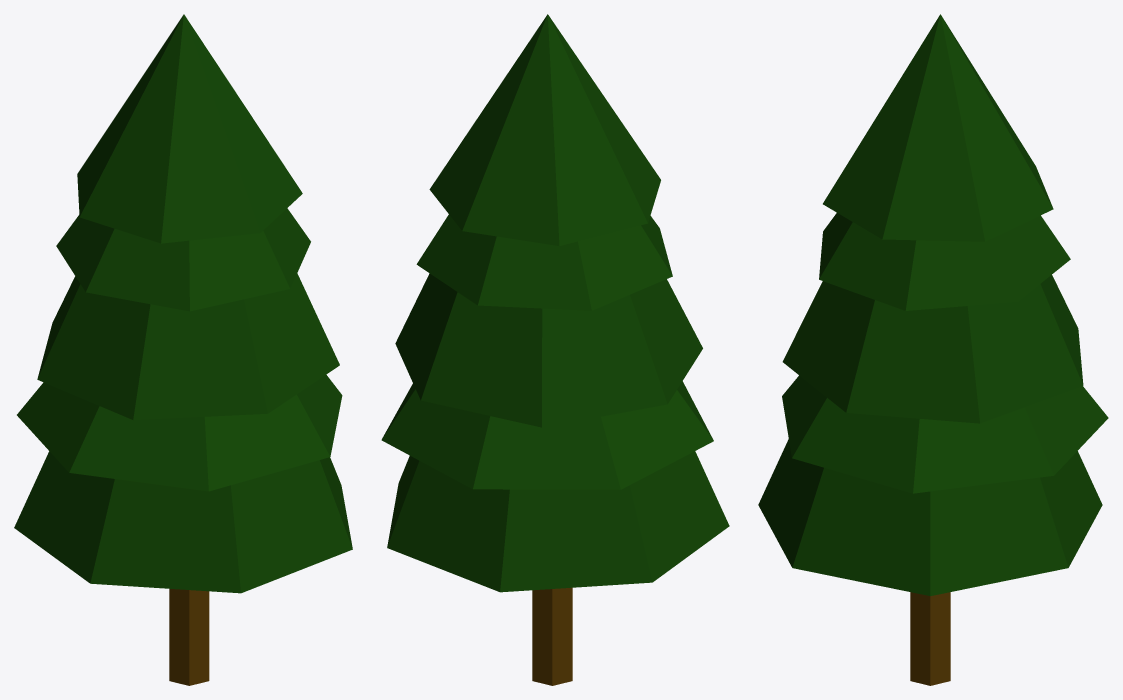
Rendered from Denneboom low poly 1.fbx.
The picture shows the model from 3 angles, left to right: view 1: azimuth 30°, elevation 25°; view 2: azimuth 150°, elevation 25°; view 3: azimuth 270°, elevation 25°; orthographic projection.
Parts seen in each view (by area): view 1: pCylinder39; view 2: pCylinder39; view 3: pCylinder39.
Part boxes in pixels (x1,y1,x2,y2): pCylinder39: (14, 14, 352, 685); pCylinder39: (381, 14, 729, 685); pCylinder39: (758, 14, 1108, 685).
Size of the model in its own units: 14.55 by 31.33 by 15.03.
